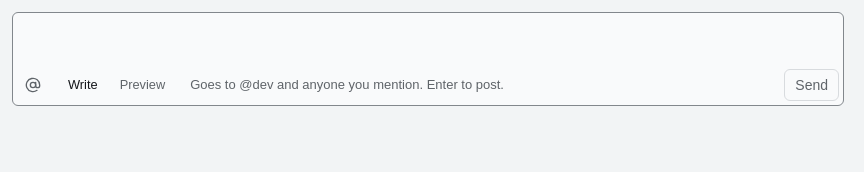
Scenario: reply from Preview goes back to Write and focuses
Click the button "Preview" at (142, 85), box [109,71,176,99]
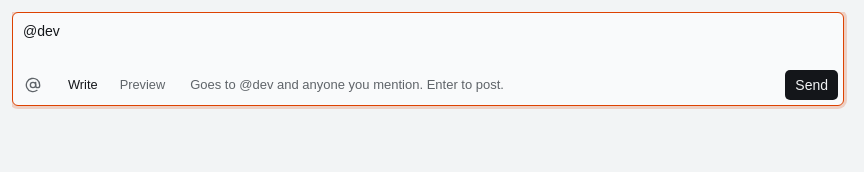
Expected: the dropdown named "Comment" holds "@dev ", [13,13,843,69]
